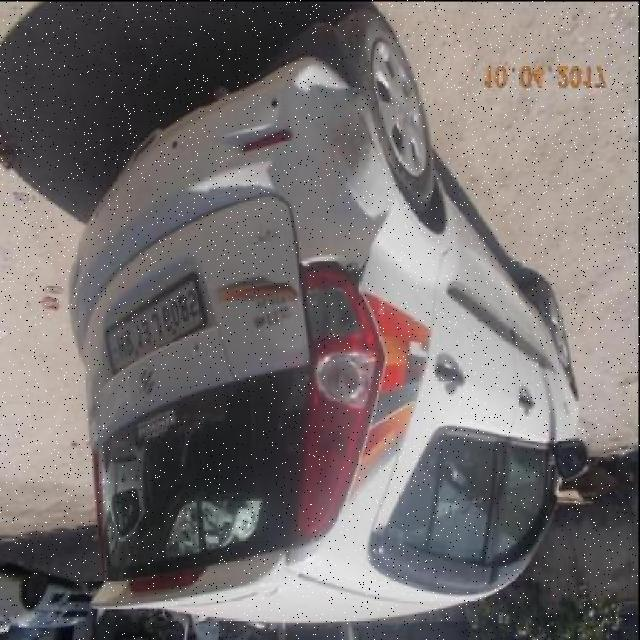damage: (289, 68, 397, 265), (302, 253, 371, 291)
